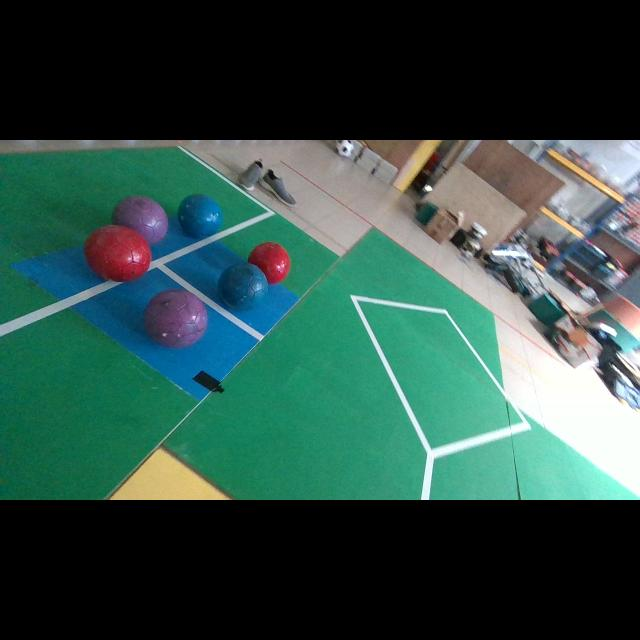B: (219, 264, 268, 309), (178, 194, 222, 238)
P: (144, 289, 208, 349), (111, 195, 169, 246)
R: (84, 225, 151, 281), (248, 242, 291, 284)
